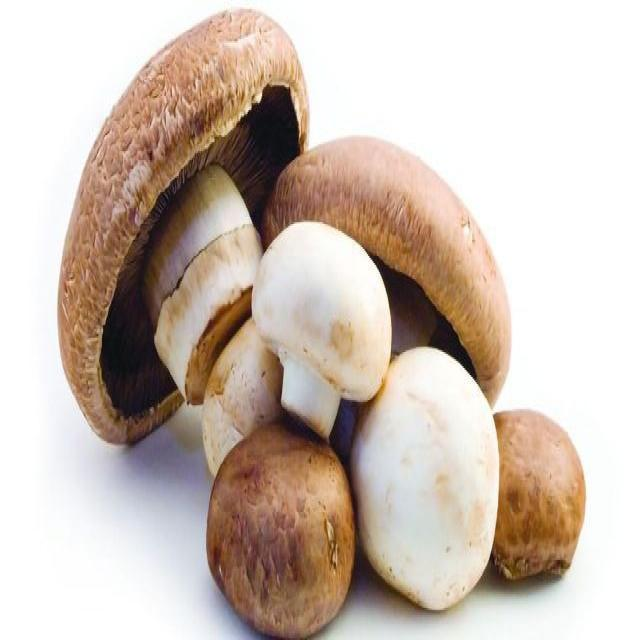mushroom: (37, 12, 621, 640)
